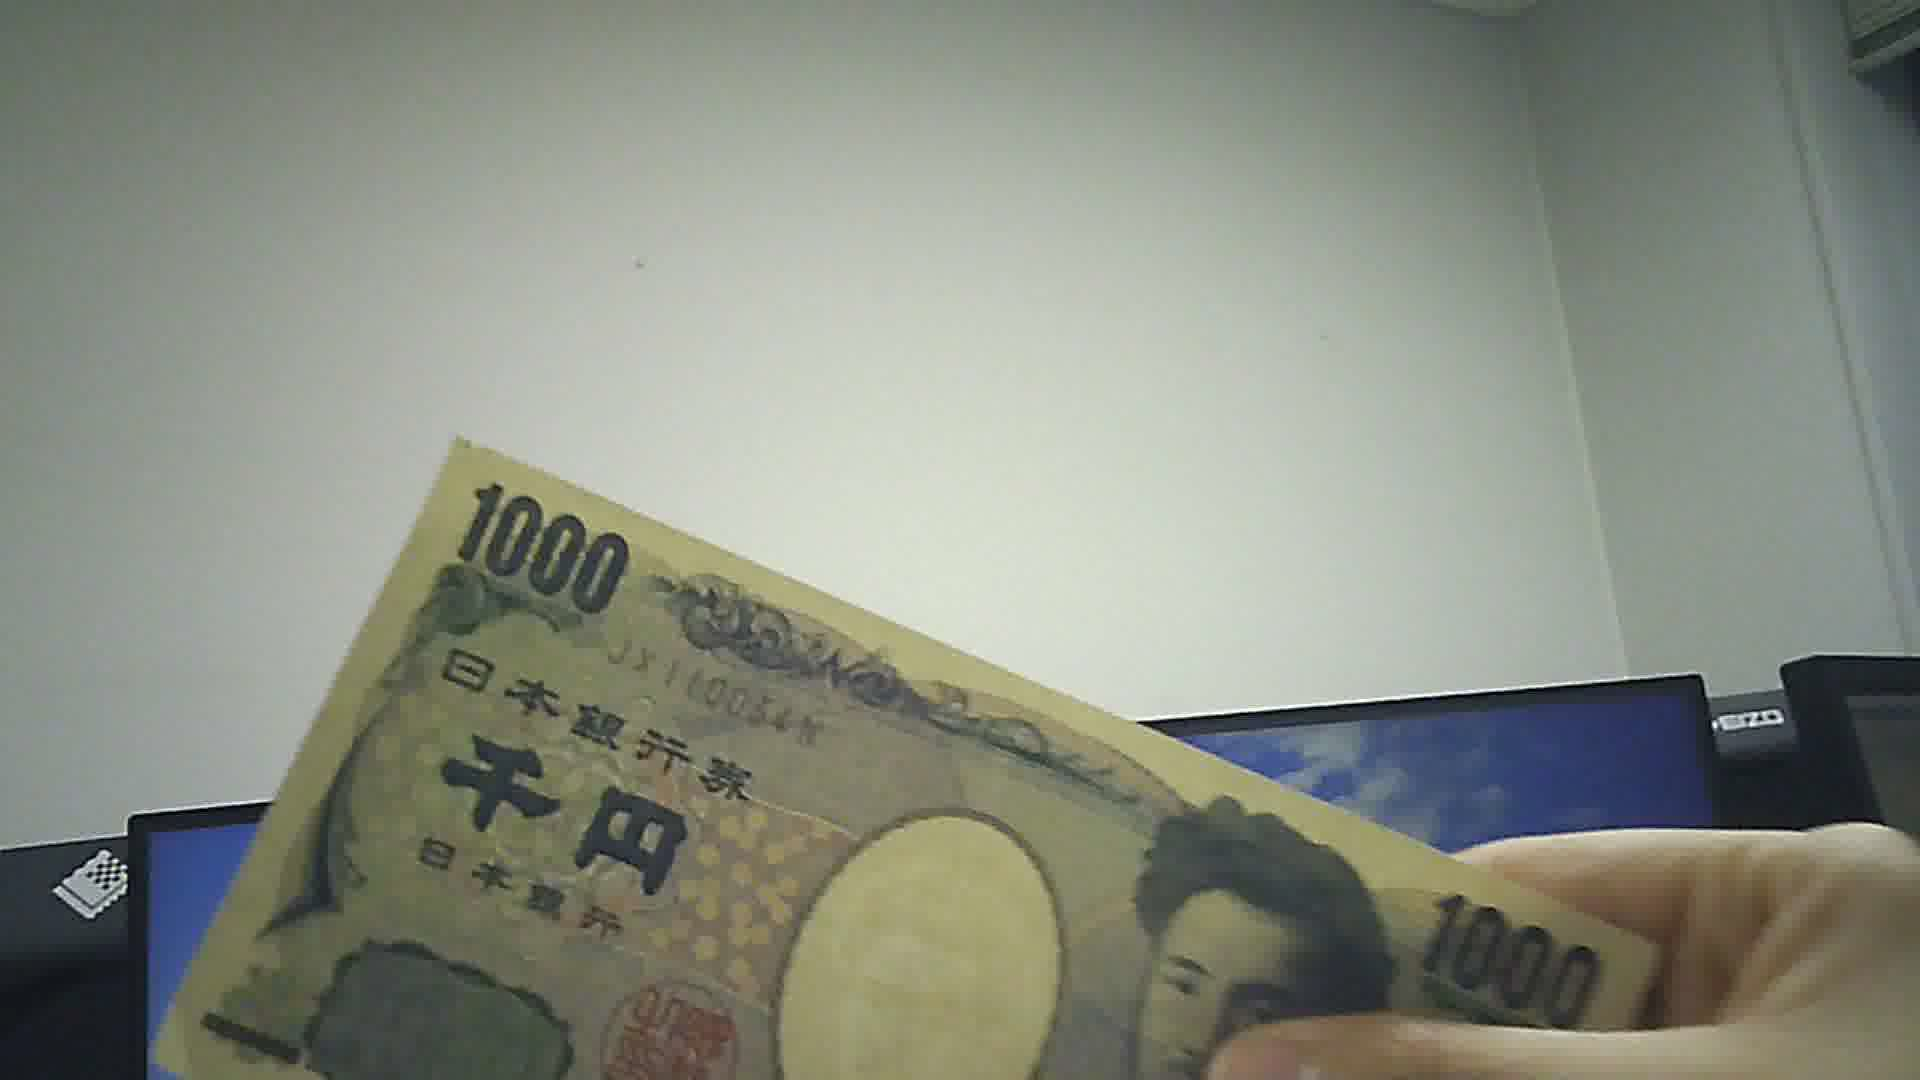1,000 Yen: (152, 418, 1654, 1079)
